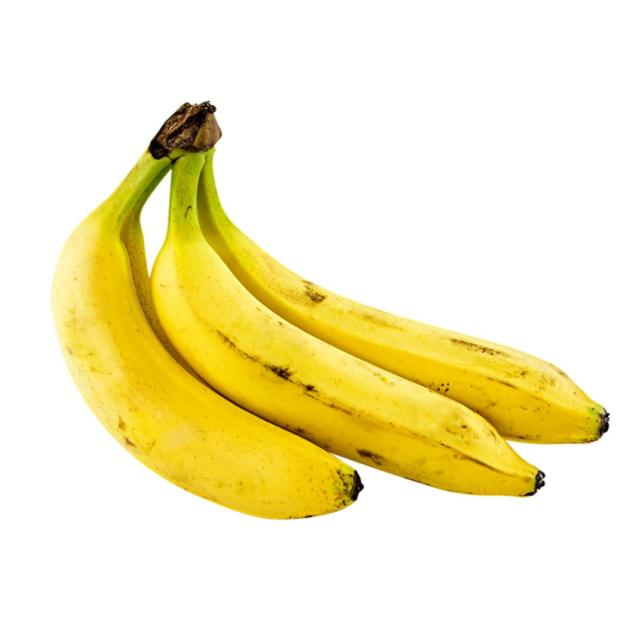Pisang: (49, 96, 610, 504)
